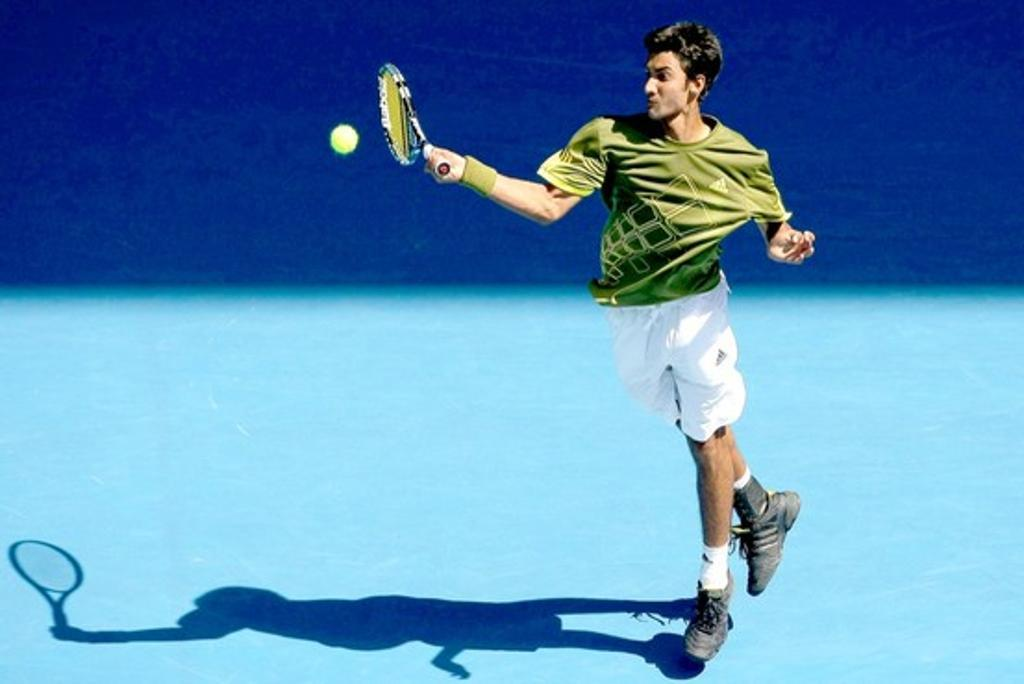face: (639, 51, 691, 125)
